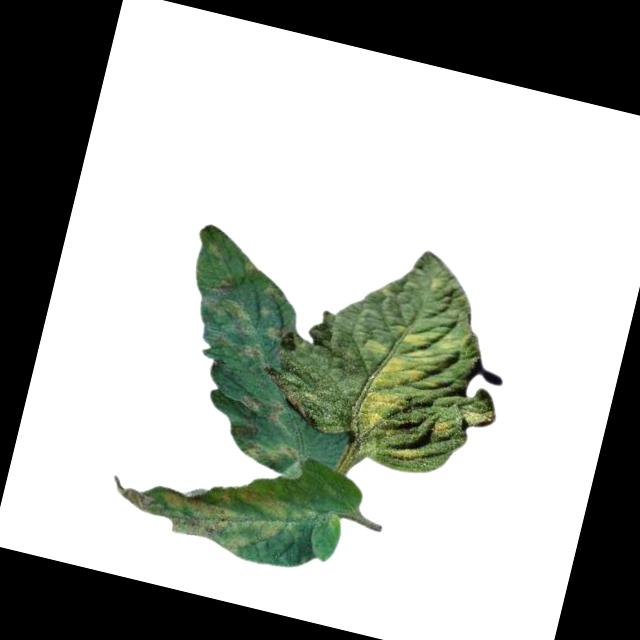Leaf_Mold: (103, 453, 290, 563), (344, 313, 449, 449), (196, 289, 262, 342), (239, 431, 303, 474), (232, 388, 287, 423), (234, 339, 274, 372), (383, 439, 426, 467), (263, 276, 291, 304), (431, 411, 458, 440), (261, 318, 290, 344)
